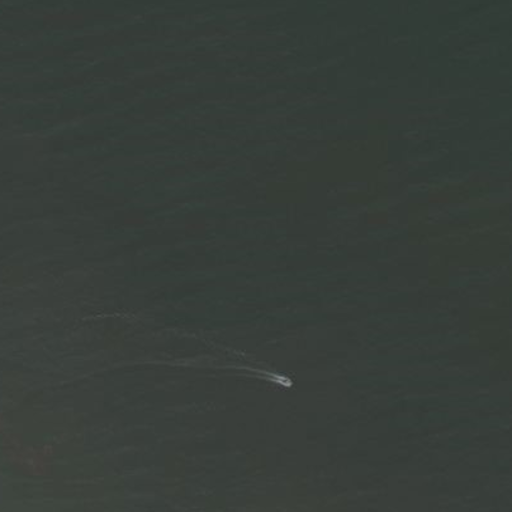ship: (274, 373, 294, 390)
